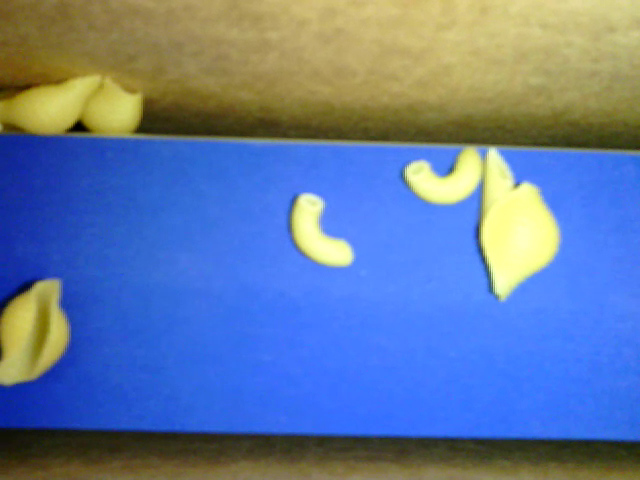elbow: (287, 191, 354, 269), (406, 143, 483, 206)
penne: (482, 145, 515, 217)
shell: (480, 179, 560, 299), (1, 278, 68, 386), (1, 70, 101, 130), (79, 78, 143, 136)
